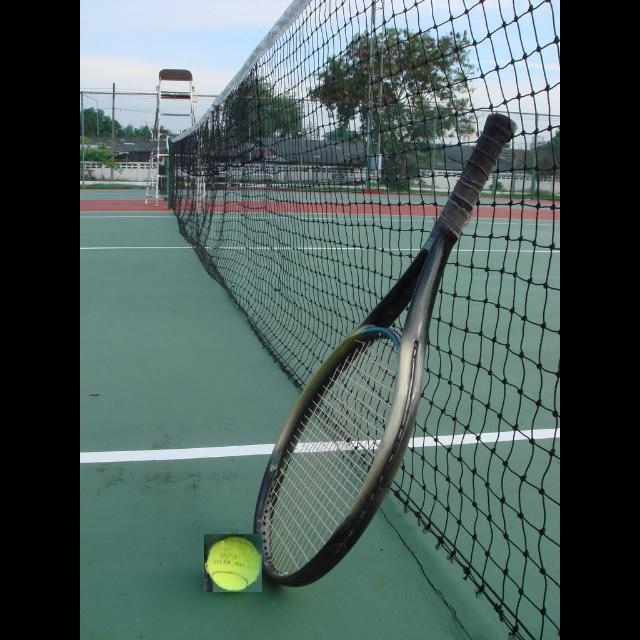tennis ball: (204, 534, 262, 592)
